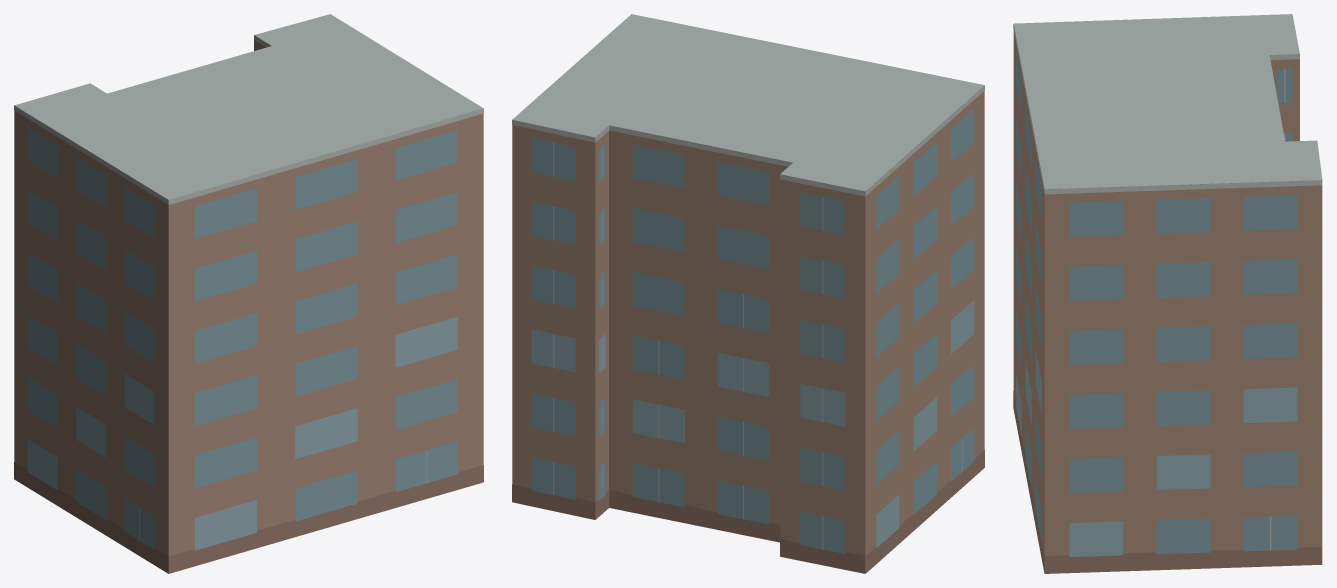
File: survey-upis-32725224.glb
3 views of the same model, side by side, from view 1: azimuth 30°, elevation 25°; view 2: azimuth 150°, elevation 25°; view 3: azimuth 270°, elevation 25° (orthographic). The views are drawn at different scales.
Visible parts, largest first — view 1: survey-upis-32725224.tmp; view 2: survey-upis-32725224.tmp; view 3: survey-upis-32725224.tmp.
Part boxes in pixels (<box>): survey-upis-32725224.tmp: <box>14,14,483,573</box>; survey-upis-32725224.tmp: <box>512,14,984,573</box>; survey-upis-32725224.tmp: <box>1013,14,1322,573</box>.
Size of the model in its own units: 17.6 by 18 by 13.11.
